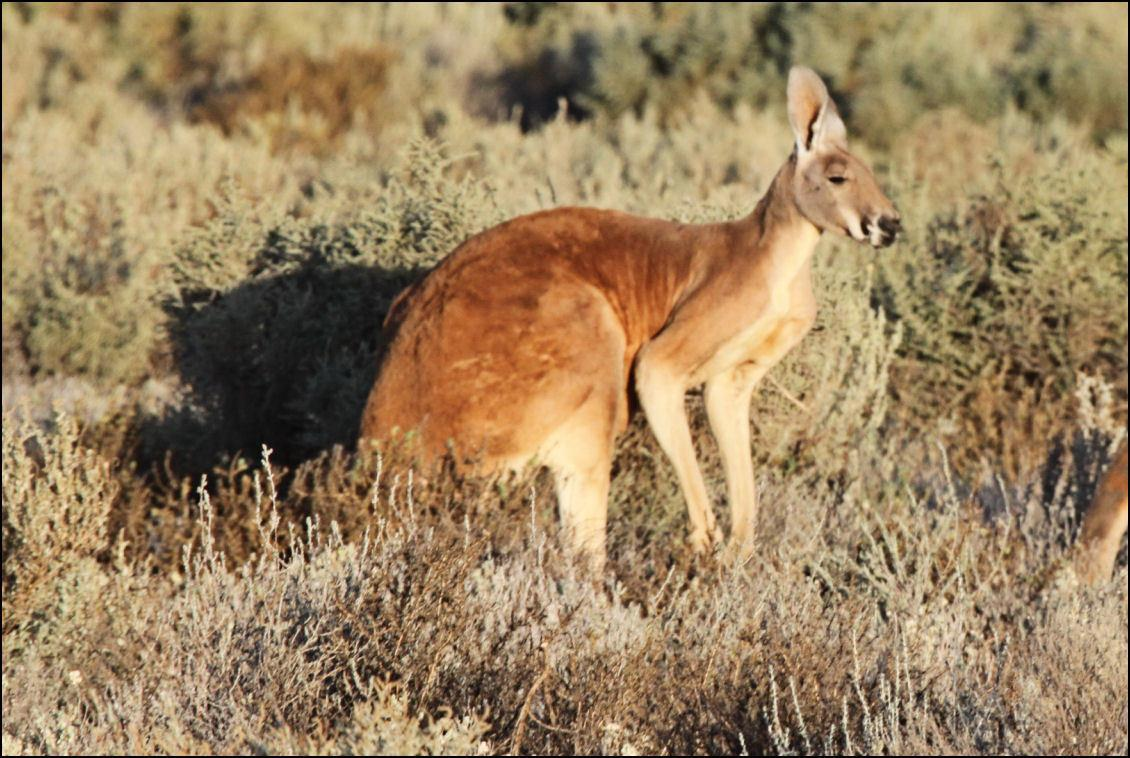Red kangaroo: (351, 66, 903, 593)
